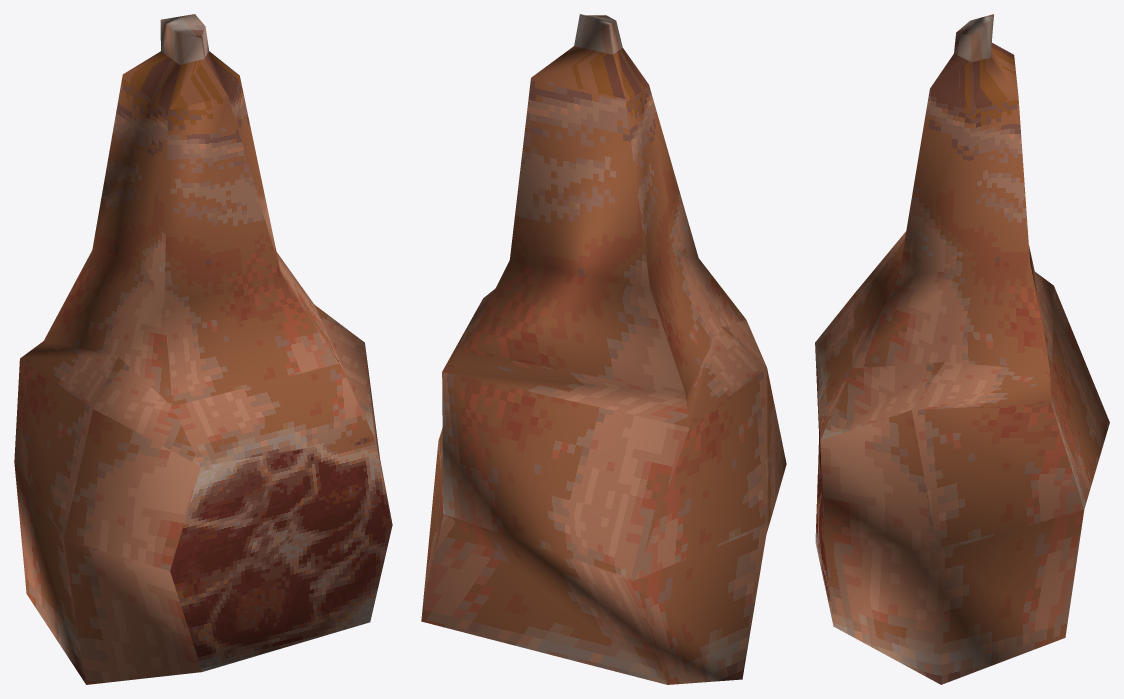
Rendered from pork_leg.glb.
3 views of the same model, side by side, from view 1: azimuth 30°, elevation 25°; view 2: azimuth 150°, elevation 25°; view 3: azimuth 270°, elevation 25° (orthographic). The views are drawn at different scales.
Visible parts, largest first — view 1: pork_leg; view 2: pork_leg; view 3: pork_leg.
Part boxes in pixels (x1,y1,x2,y2): pork_leg: [14, 14, 392, 684]; pork_leg: [421, 14, 786, 684]; pork_leg: [815, 14, 1109, 684].
Bounding box in the file's own units: 0.6251 × 1.18 × 0.5236.
1 material, 1 textured.
